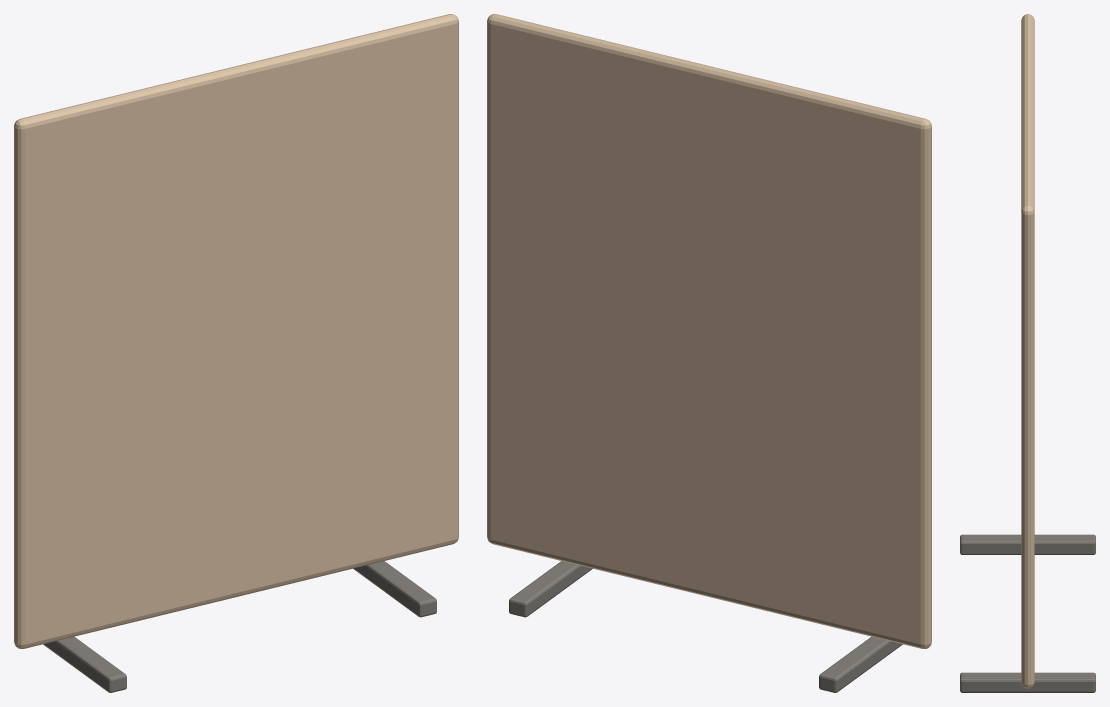
The model's file is partitions___dividers_asset_catalog_58.glb.
3 views of the same model, side by side, from view 1: azimuth 30°, elevation 25°; view 2: azimuth 150°, elevation 25°; view 3: azimuth 270°, elevation 25° (orthographic). The views are drawn at different scales.
Visible parts, largest first — view 1: Cube; view 2: Cube; view 3: Cube.
Part boxes in pixels (left/top/right/bottom): Cube: left=14, top=14, right=458, bottom=692; Cube: left=487, top=14, right=931, bottom=692; Cube: left=960, top=14, right=1095, bottom=692.
Bounding box in the file's own units: 1.2 × 1.45 × 0.35.
